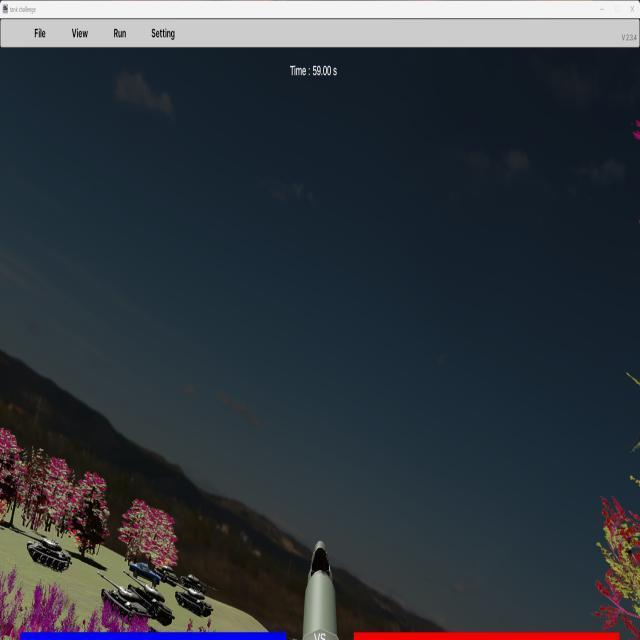Tank: (7, 525, 72, 572), (123, 571, 175, 625), (96, 570, 146, 622), (163, 573, 213, 618)
car: (130, 561, 161, 585)
